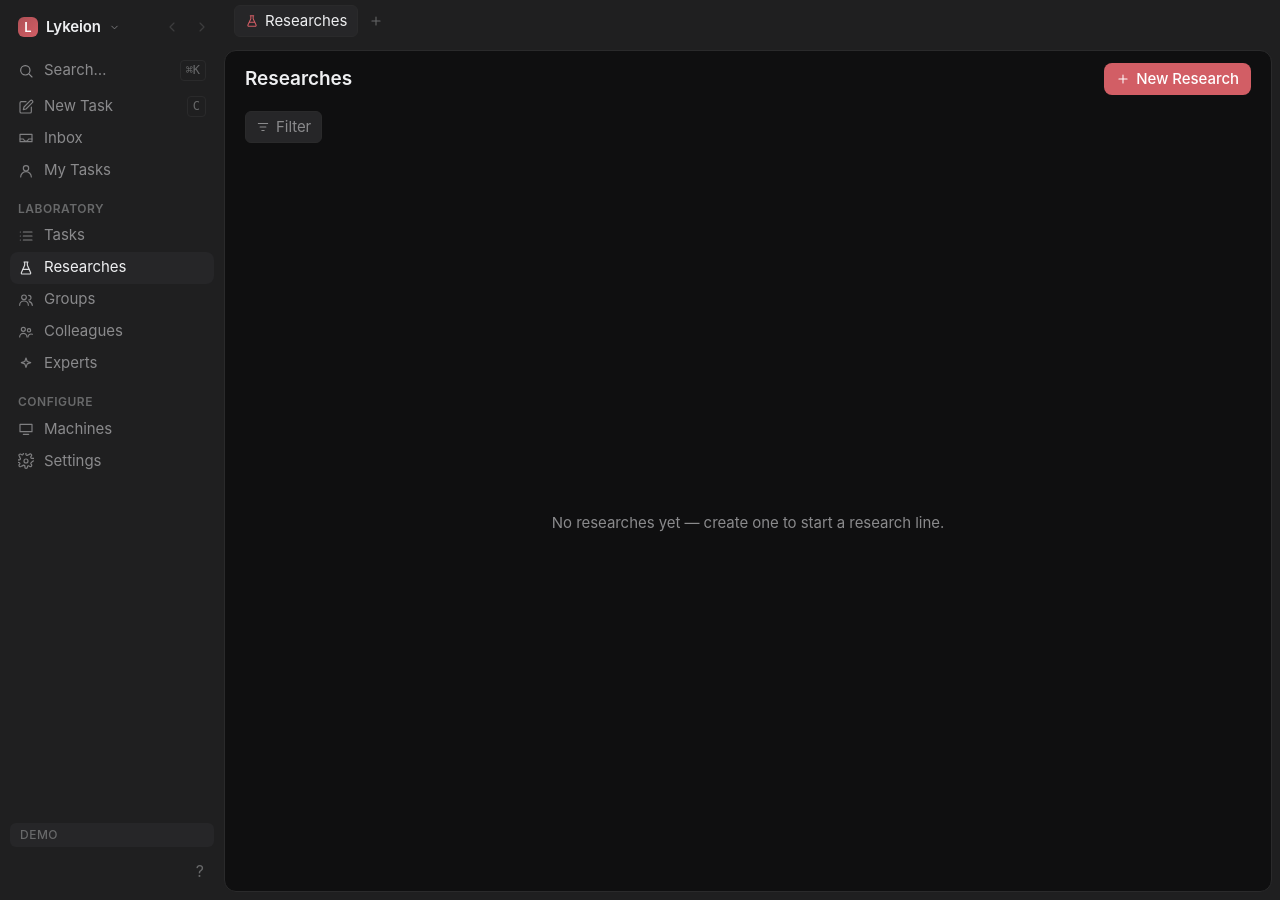
Test: Skills empty state on a fresh install
Click the link "Settings" at (60, 460), box [18,451,101,470]
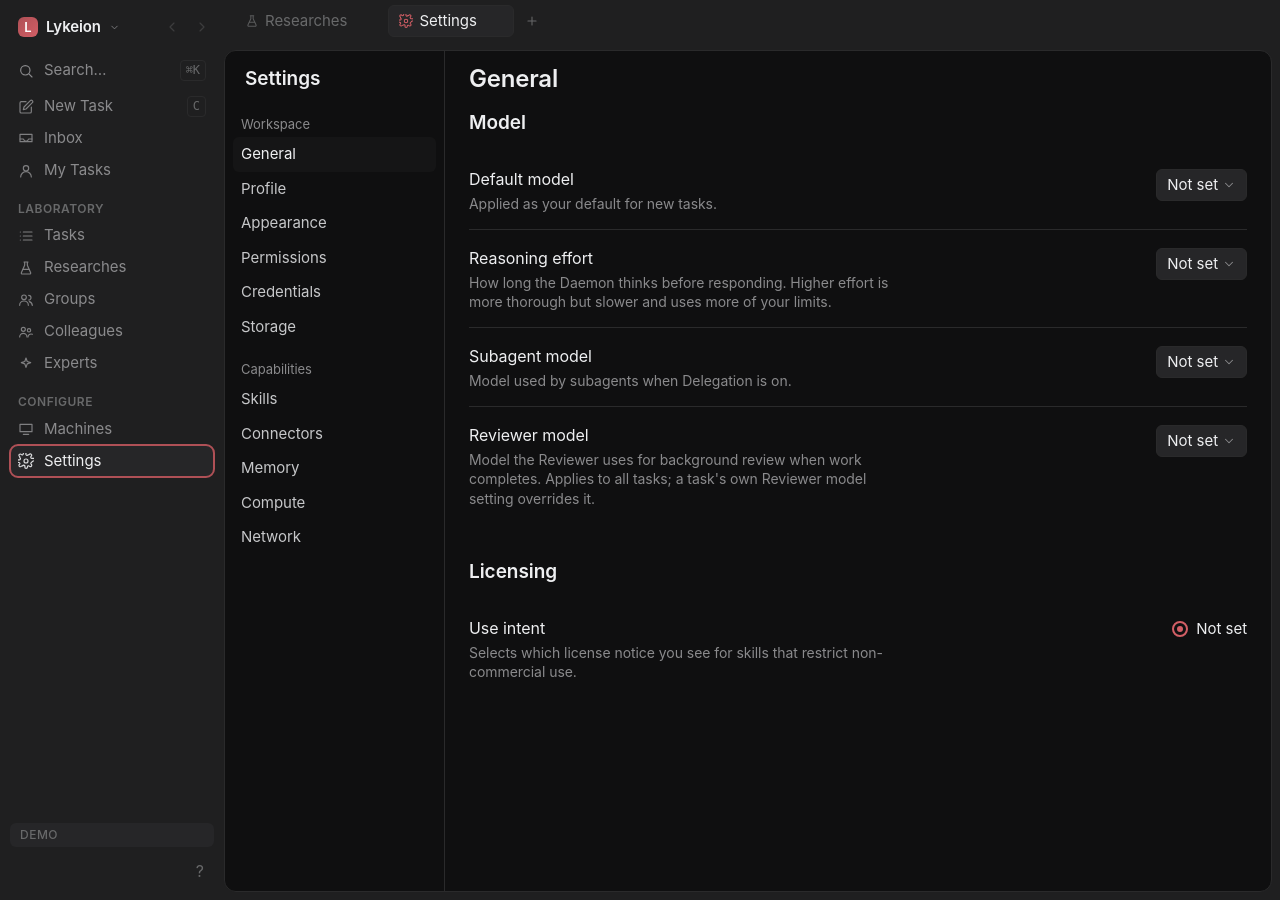
Click the button "Skills" at (334, 400), box [233,382,436,417]
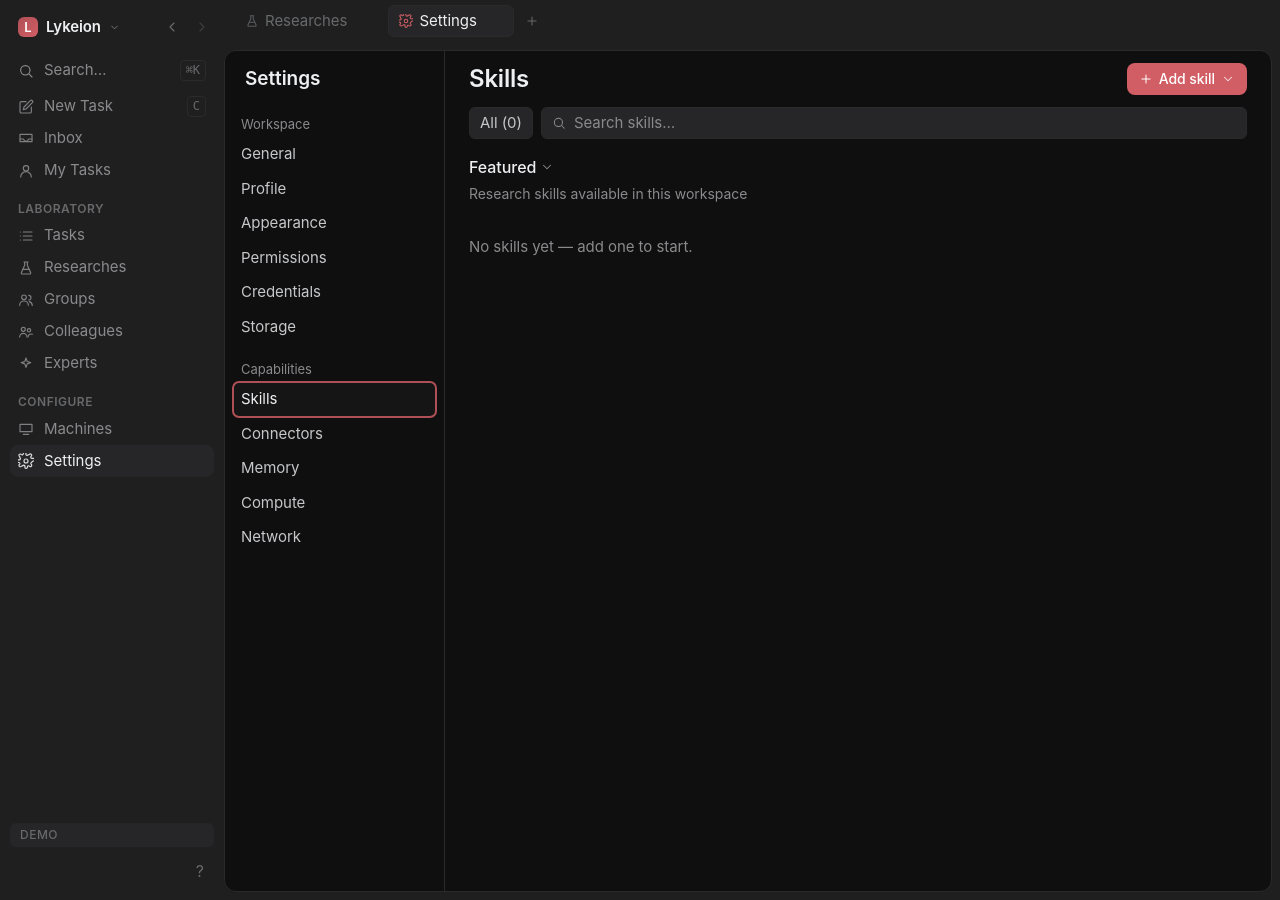
Expected: the text "No skills yet — add one to start." is shown, [469,237,692,256]
